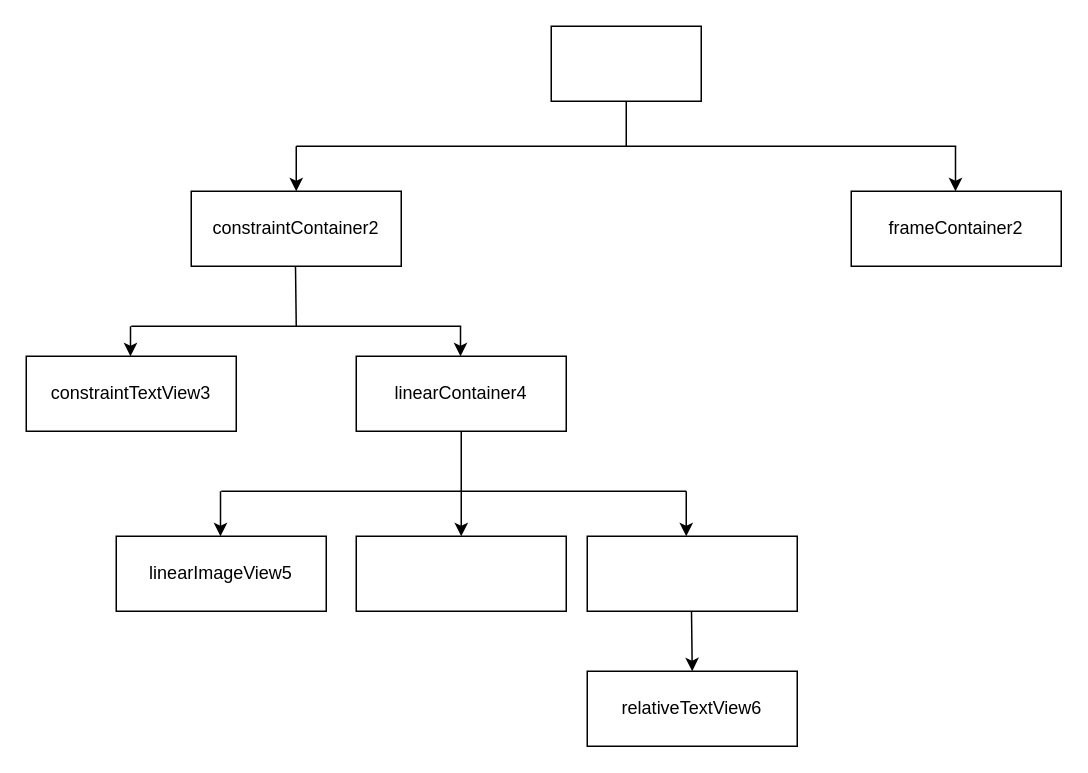
The diagram is 1088 pixels wide and 773 high, and some of its shapes have lost their labels. Here are the shapes that lost their labels. From the top down, the box of each, then its label:
(550, 25, 701, 101): root1
(355, 535, 566, 611): linearTextView5
(586, 535, 797, 611): relativeContainer5
